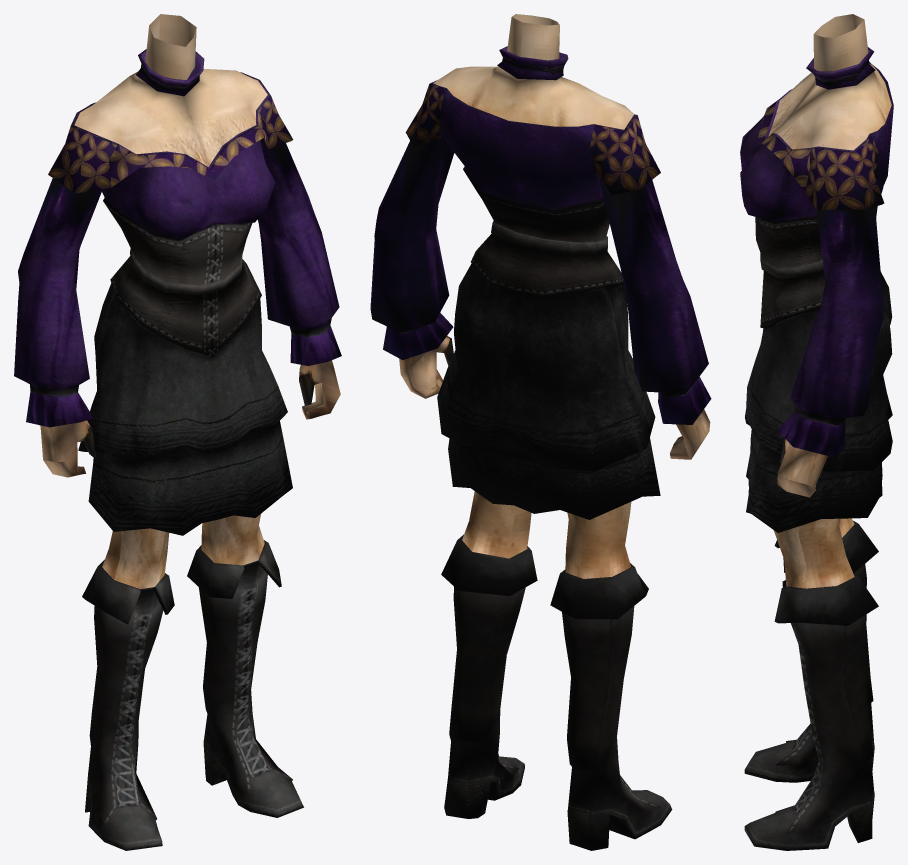
Rendered from GS_SLAV_BABE_04_KOZA.glb.
3 views of the same model, side by side, from view 1: azimuth 30°, elevation 25°; view 2: azimuth 150°, elevation 25°; view 3: azimuth 270°, elevation 25° (orthographic). The views are drawn at different scales.
Visible parts, largest first — view 1: GS_SLAV_BABE_04_KOZA; view 2: GS_SLAV_BABE_04_KOZA; view 3: GS_SLAV_BABE_04_KOZA.
Part boxes in pixels (left/top/right/bottom): GS_SLAV_BABE_04_KOZA: left=14, top=14, right=341, bottom=850; GS_SLAV_BABE_04_KOZA: left=370, top=14, right=711, bottom=850; GS_SLAV_BABE_04_KOZA: left=740, top=14, right=893, bottom=850.
Size of the model in its own units: 0.6944 by 1.67 by 0.2963.
2 materials, 2 textured.
